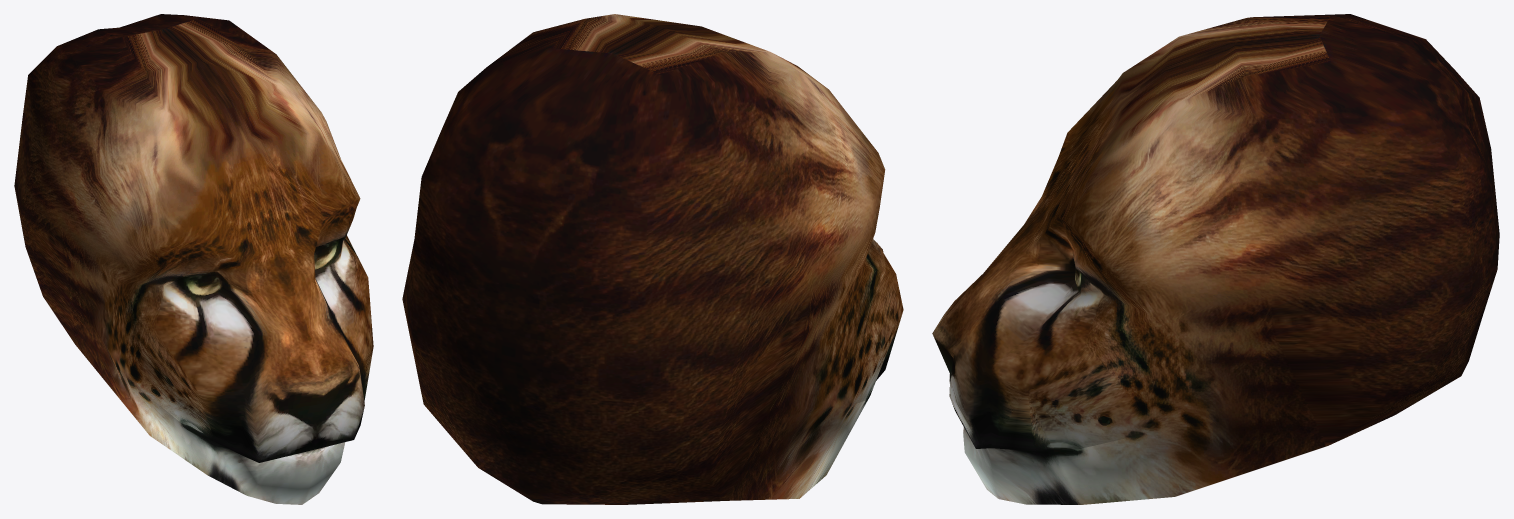
Rendered from b_n_khajiit_f_head_02.glb.
3 renders of one model, left to right at view 1: azimuth 30°, elevation 25°; view 2: azimuth 150°, elevation 25°; view 3: azimuth 270°, elevation 25°, orthographic. The views are drawn at different scales.
Visible parts, largest first — view 1: Tri B_N_Khajiit_F_Head_02; view 2: Tri B_N_Khajiit_F_Head_02; view 3: Tri B_N_Khajiit_F_Head_02.
Part boxes in pixels (<box>): Tri B_N_Khajiit_F_Head_02: <box>14,14,373,504</box>; Tri B_N_Khajiit_F_Head_02: <box>402,14,903,504</box>; Tri B_N_Khajiit_F_Head_02: <box>932,14,1499,504</box>.
Size of the model in its own units: 0.0971 by 0.1396 by 0.1582.
1 material, 1 textured.
